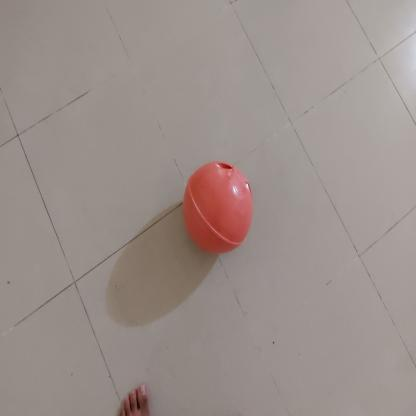red_buoy: (181, 157, 254, 259)
